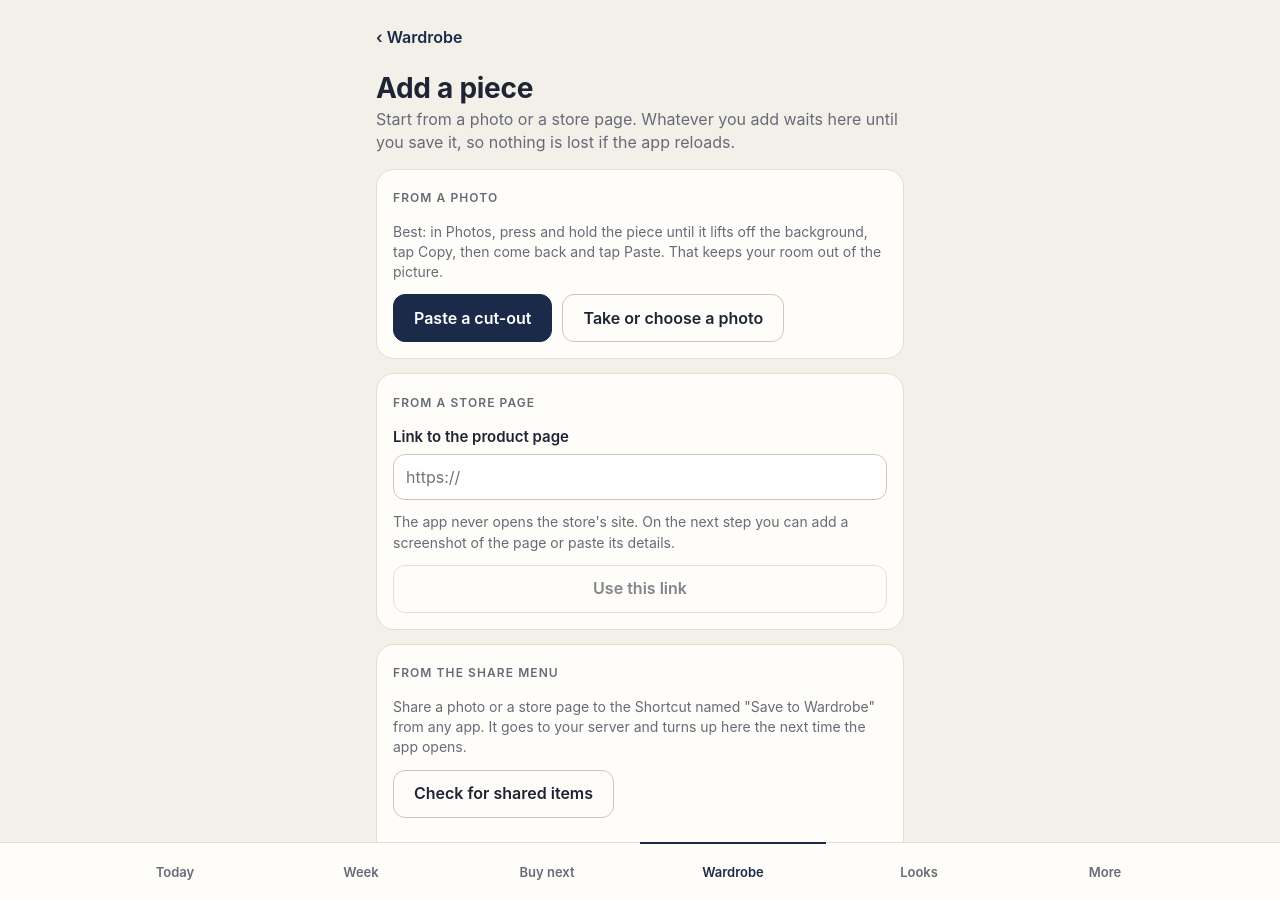
the start of adding a piece › refuses something that is not a link
The image size is (1280, 900).
Type "navy chinos" into the field labelled "Link to the product page".
click(640, 477); type("navy chinos")  # box [393,454,887,500]
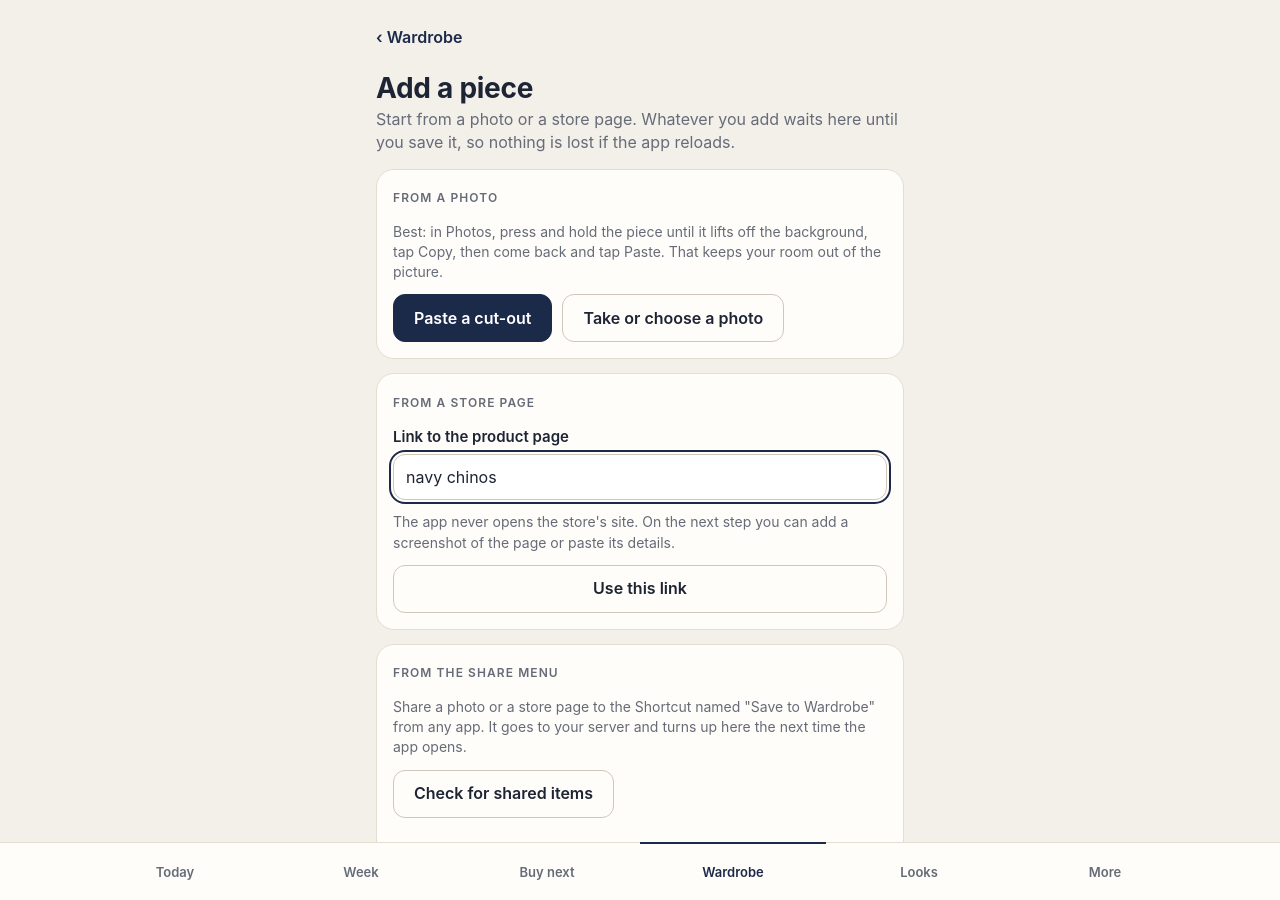
Click the button "Use this link".
click(640, 589)  # box [393,565,887,613]
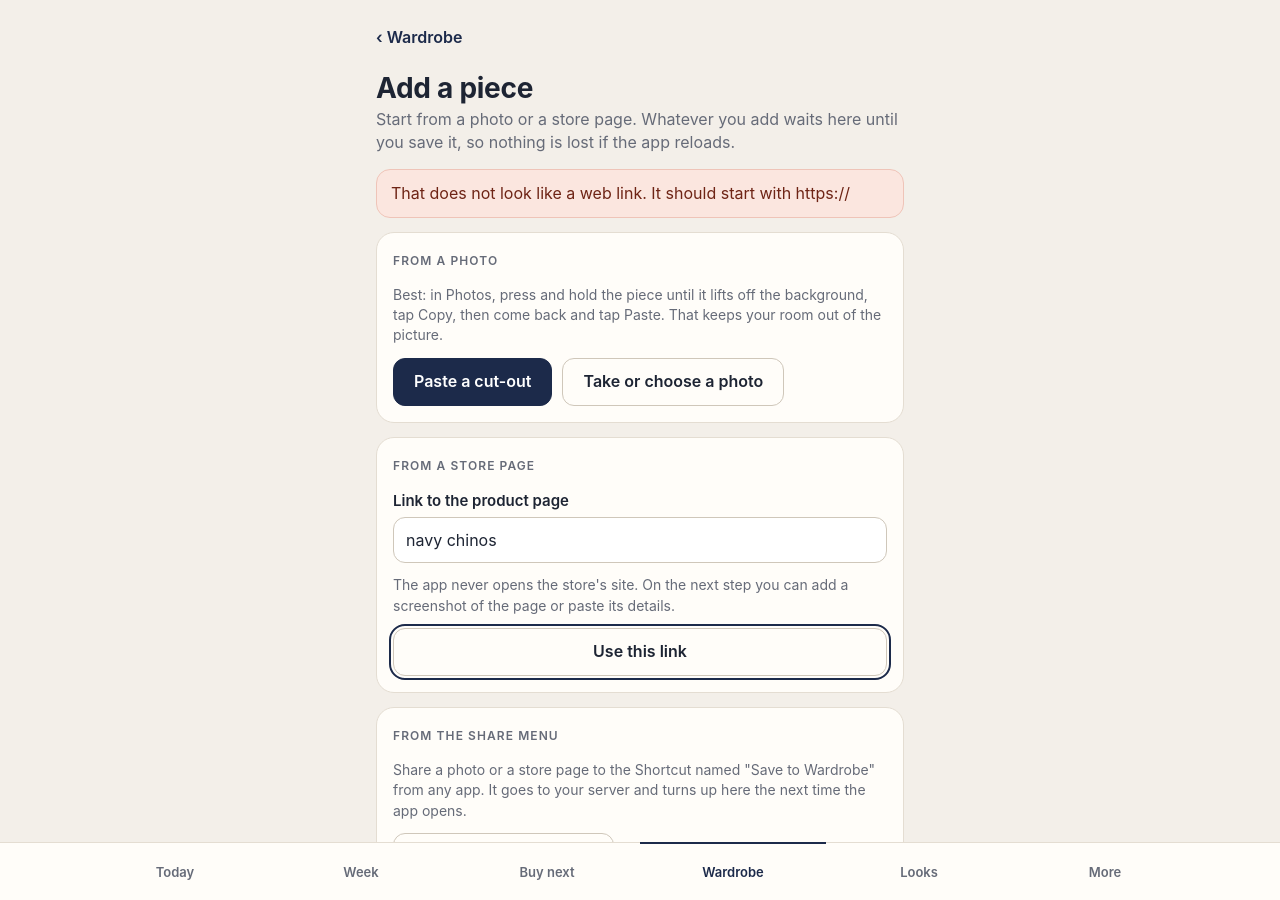
Now the message shows "does not look like a web link", box [391,183,850,203]
